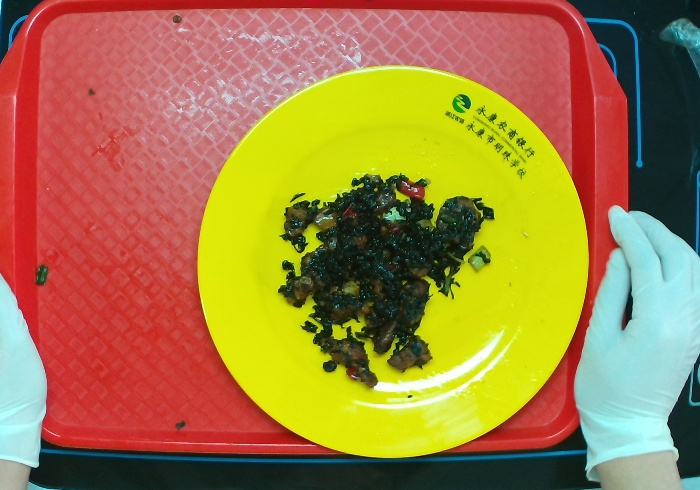YKMZ-Huang_Se_Mian_Pan: (183, 69, 596, 460)
